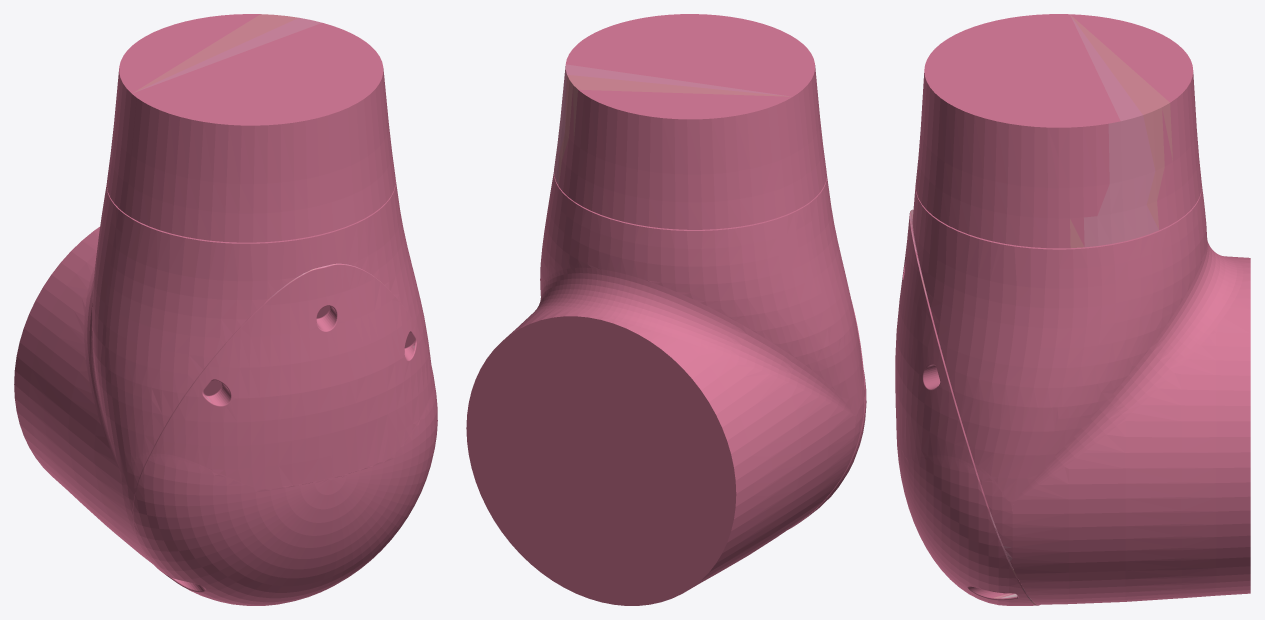
Rendered from FanucCRX10IALink3.dae.
3 views of the same model, side by side, from view 1: azimuth 30°, elevation 25°; view 2: azimuth 150°, elevation 25°; view 3: azimuth 270°, elevation 25° (orthographic). The views are drawn at different scales.
Parts seen in each view (by area): view 1: CRX10IALink3; view 2: CRX10IALink3; view 3: CRX10IALink3.
Boxes of the visible parts, x1,y1,x2,y2 form: CRX10IALink3: (14,14,437,605); CRX10IALink3: (466,14,866,605); CRX10IALink3: (895,14,1250,605).
Size of the model in its own units: 0.1403 by 0.1389 by 0.2235.
